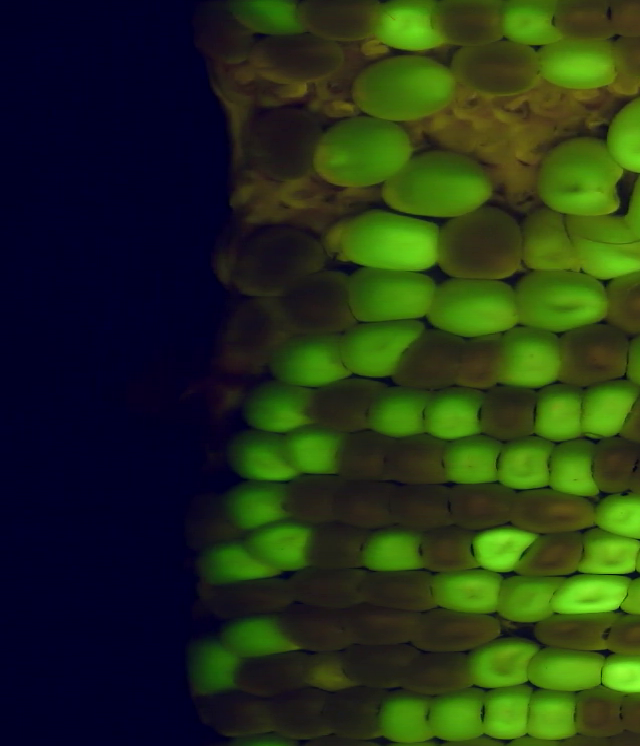fluorescent: (312, 115, 412, 191), (351, 51, 457, 118), (537, 137, 629, 214), (340, 205, 444, 271), (381, 153, 494, 211), (511, 267, 609, 333), (430, 271, 520, 337), (336, 317, 426, 383), (345, 266, 436, 325), (268, 333, 365, 388), (562, 210, 640, 278), (242, 378, 324, 434), (229, 426, 310, 480), (498, 326, 567, 389), (538, 40, 618, 92), (372, 1, 451, 52), (354, 522, 430, 572), (576, 380, 640, 439), (544, 439, 609, 497), (528, 645, 606, 693), (429, 570, 506, 618), (463, 639, 541, 686), (367, 384, 431, 440), (471, 522, 538, 575), (477, 687, 542, 741), (497, 437, 563, 490), (247, 523, 321, 570), (224, 481, 296, 529), (287, 427, 353, 479), (520, 206, 573, 270), (422, 387, 489, 437), (198, 544, 286, 582), (533, 383, 587, 444), (579, 522, 640, 576), (496, 572, 564, 620), (220, 616, 303, 655), (442, 434, 505, 485), (373, 692, 437, 742), (185, 640, 243, 694), (523, 687, 580, 741), (499, 1, 568, 45), (556, 574, 631, 611), (430, 692, 486, 741), (606, 93, 640, 171), (592, 488, 640, 539), (229, 2, 303, 31), (598, 651, 640, 691)
nonfluorescent: (232, 218, 331, 299), (244, 102, 331, 183), (435, 205, 529, 279), (277, 263, 361, 338), (555, 322, 637, 389), (511, 483, 604, 539), (451, 45, 553, 94), (248, 34, 351, 81), (394, 326, 464, 394), (212, 298, 277, 363), (419, 608, 504, 654), (430, 1, 513, 48), (311, 378, 386, 429), (363, 565, 438, 615), (205, 580, 306, 617), (294, 1, 389, 40), (290, 564, 374, 608), (342, 644, 421, 690), (479, 384, 540, 440), (233, 652, 311, 694), (184, 491, 244, 545), (446, 483, 518, 527), (535, 614, 616, 653), (388, 433, 448, 485), (518, 528, 585, 574), (288, 471, 347, 523), (206, 690, 273, 735), (271, 691, 335, 738), (590, 433, 638, 495), (390, 485, 456, 530), (282, 608, 358, 647), (457, 331, 507, 390), (338, 477, 398, 526), (326, 691, 388, 738), (348, 606, 422, 645), (409, 651, 471, 694), (571, 687, 628, 733), (553, 1, 615, 43), (342, 427, 389, 480), (192, 23, 254, 63), (421, 529, 478, 572), (603, 266, 640, 330), (312, 526, 366, 567)
